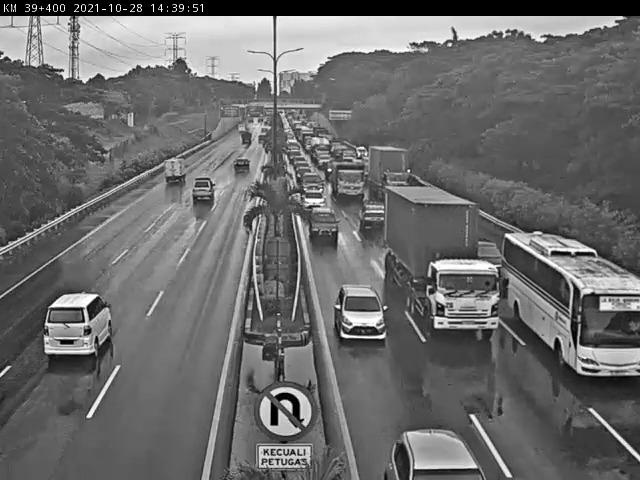big bus: (505, 230, 640, 379)
big truck: (387, 188, 500, 335), (369, 145, 411, 197), (330, 160, 367, 200)
car: (43, 294, 114, 355), (335, 284, 389, 339), (475, 238, 505, 274), (309, 208, 337, 243), (360, 203, 387, 228), (301, 172, 326, 195), (192, 178, 215, 203), (302, 191, 327, 211)
small truck: (164, 158, 185, 182)
